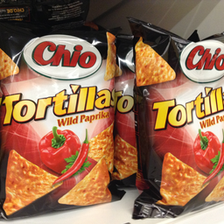chips: (1, 25, 120, 217), (129, 18, 224, 217)
